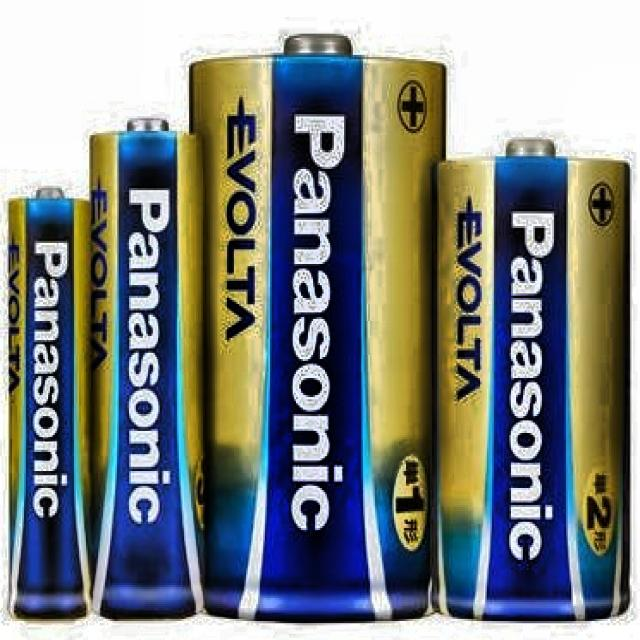Non-Valuable Waste - Batteries: (191, 35, 445, 619), (438, 140, 630, 620), (90, 118, 204, 618), (9, 190, 89, 617)
